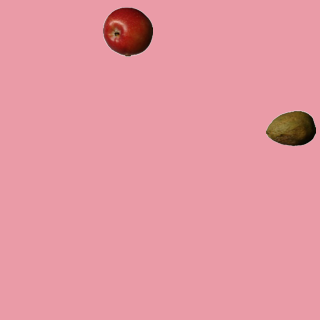Apple Braeburn: (102, 6, 152, 56)
Papaya: (265, 103, 315, 153)
